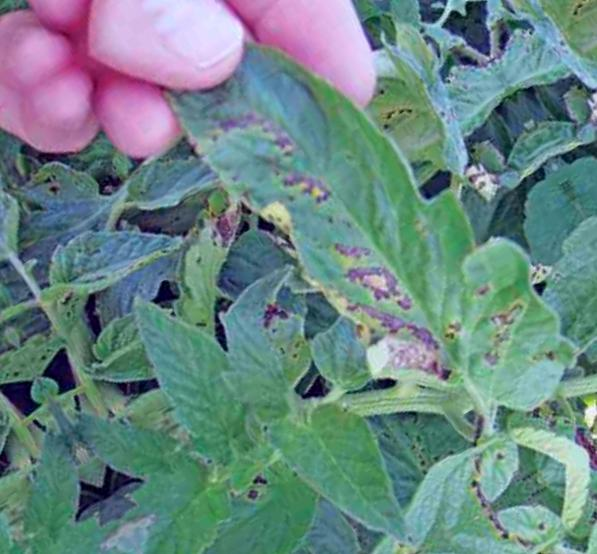Tomato Early blight leaf: (170, 0, 597, 507)
Tomato leaf: (260, 378, 434, 554), (117, 281, 254, 454), (68, 381, 194, 513)
